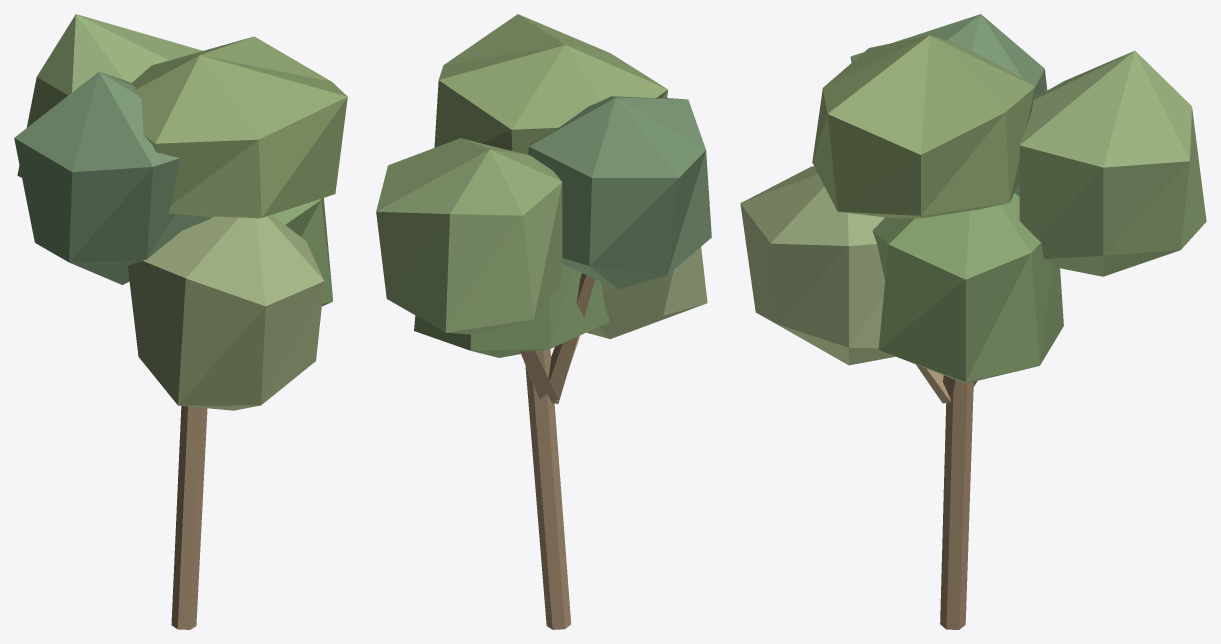
Rendered from tree-4.glb.
The picture shows the model from 3 angles, left to right: view 1: azimuth 30°, elevation 25°; view 2: azimuth 150°, elevation 25°; view 3: azimuth 270°, elevation 25°; orthographic projection. The views are drawn at different scales.
Size of the model in its own units: 2.68 by 5.11 by 3.65.
